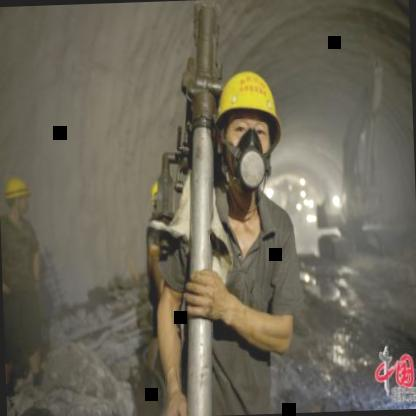helmet: (204, 56, 288, 207), (2, 172, 32, 218)
